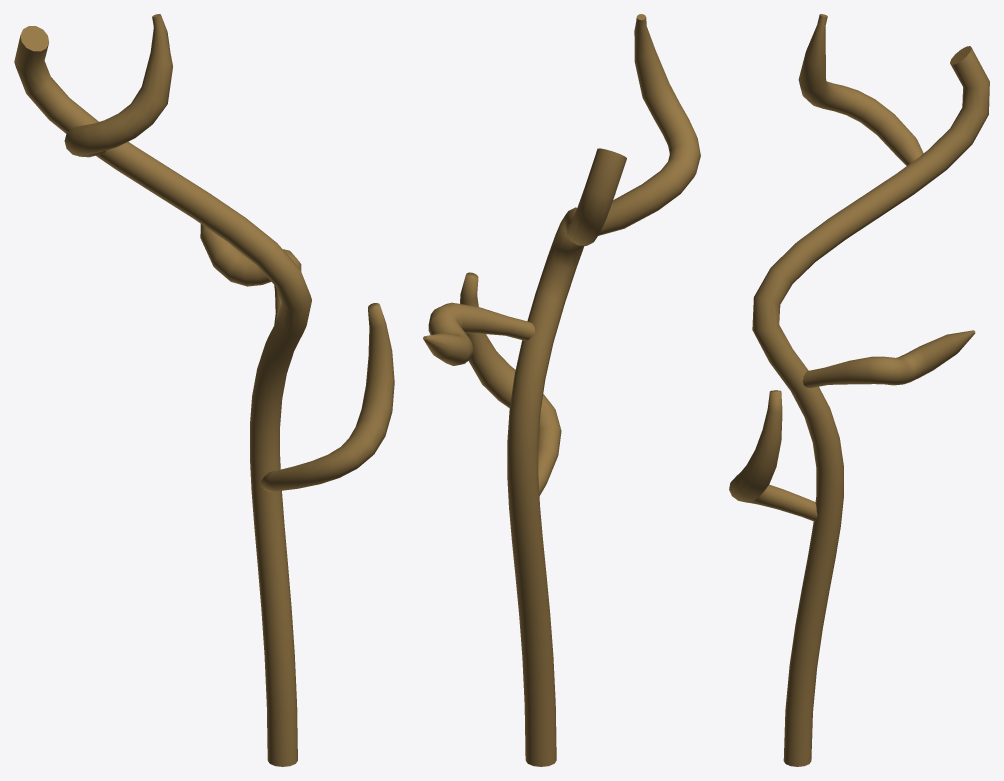
File: NakedTree.fbx
3 views of the same model, side by side, from view 1: azimuth 30°, elevation 25°; view 2: azimuth 150°, elevation 25°; view 3: azimuth 270°, elevation 25° (orthographic). The views are drawn at different scales.
Visible parts, largest first — view 1: BézierCurve.001; view 2: BézierCurve.001; view 3: BézierCurve.001.
Boxes of the visible parts, left/top/right/bottom form: BézierCurve.001: left=14, top=14, right=394, bottom=766; BézierCurve.001: left=423, top=14, right=700, bottom=766; BézierCurve.001: left=729, top=14, right=989, bottom=766.
Size of the model in its own units: 125 by 333 by 113.
